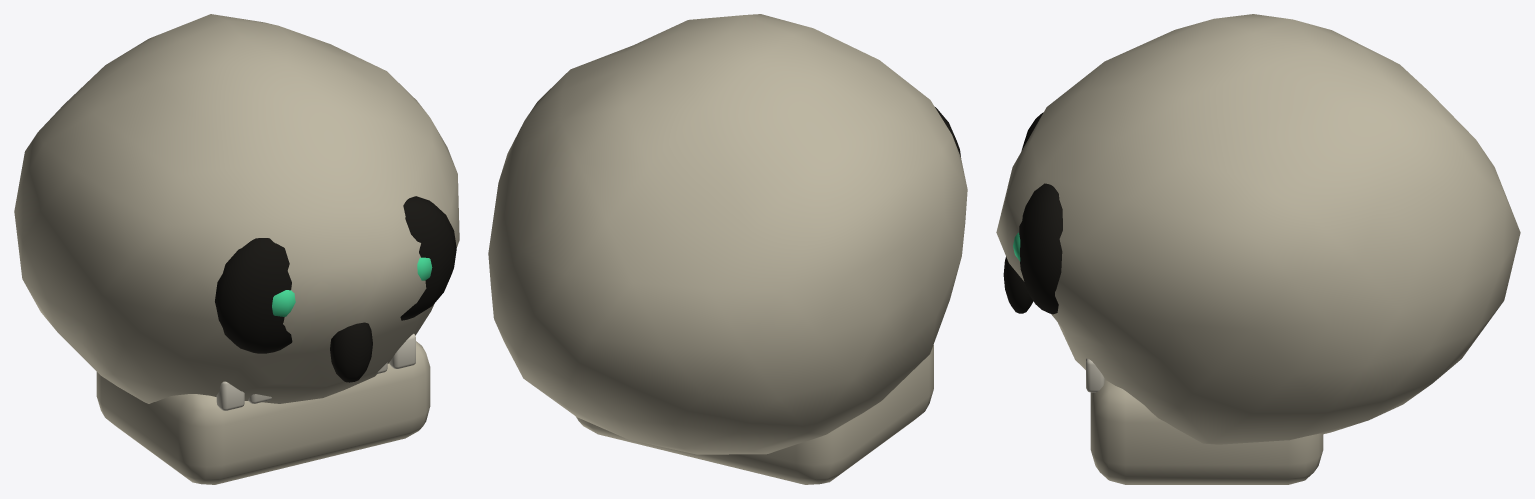
The model's file is skullrock.glb.
The picture shows the model from 3 angles, left to right: view 1: azimuth 30°, elevation 25°; view 2: azimuth 150°, elevation 25°; view 3: azimuth 270°, elevation 25°; orthographic projection. The views are drawn at different scales.
Visible parts, largest first — view 1: Skullrock, Glow; view 2: Skullrock; view 3: Skullrock.
Boxes of the visible parts, <box> form: Skullrock: <box>14,14,459,484</box>; Glow: <box>272,257,432,316</box>; Skullrock: <box>488,14,967,484</box>; Skullrock: <box>996,14,1520,484</box>.
Bounding box in the file's own units: 38.77 × 37.87 × 45.11.
